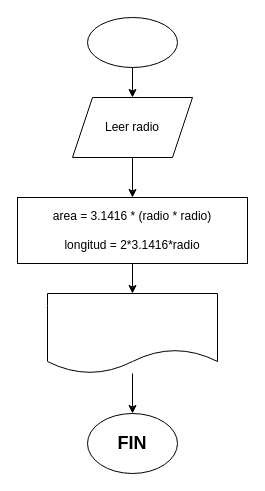
Some shapes in this 265 by 491 pixel diagram are drawn without their labels. The centre of each missing label's shape, as x and y in pixels:
imprimir areaTerreno imprimir precioTerreno: pixel 132 333
INICIO: pixel 132 42
